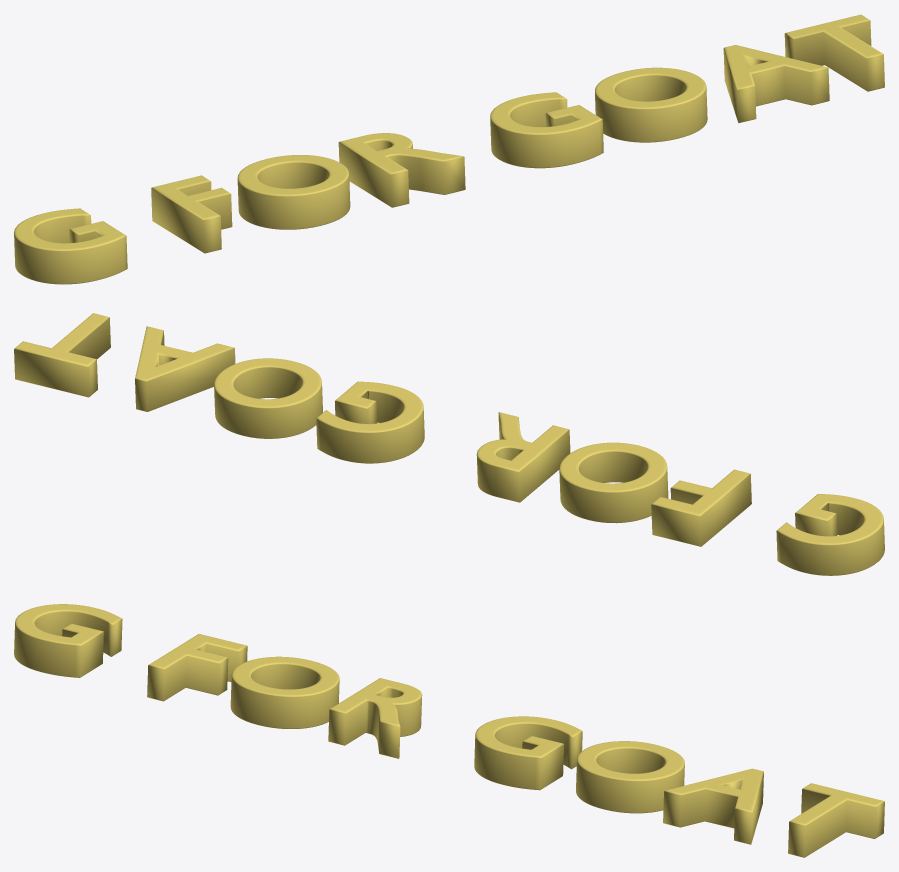
The model's file is GOAT.fbx.
3 views of the same model, one above another, from view 1: azimuth 30°, elevation 25°; view 2: azimuth 150°, elevation 25°; view 3: azimuth 330°, elevation 25° (orthographic). The views are drawn at different scales.
Parts seen in each view (by area): view 1: Text.002; view 2: Text.002; view 3: Text.002.
Part boxes in pixels (x1,y1,x2,y2): Text.002: (14,14,884,284); Text.002: (14,313,884,575); Text.002: (14,604,884,857).
Bounding box in the file's own units: 690 × 30.47 × 75.37.
